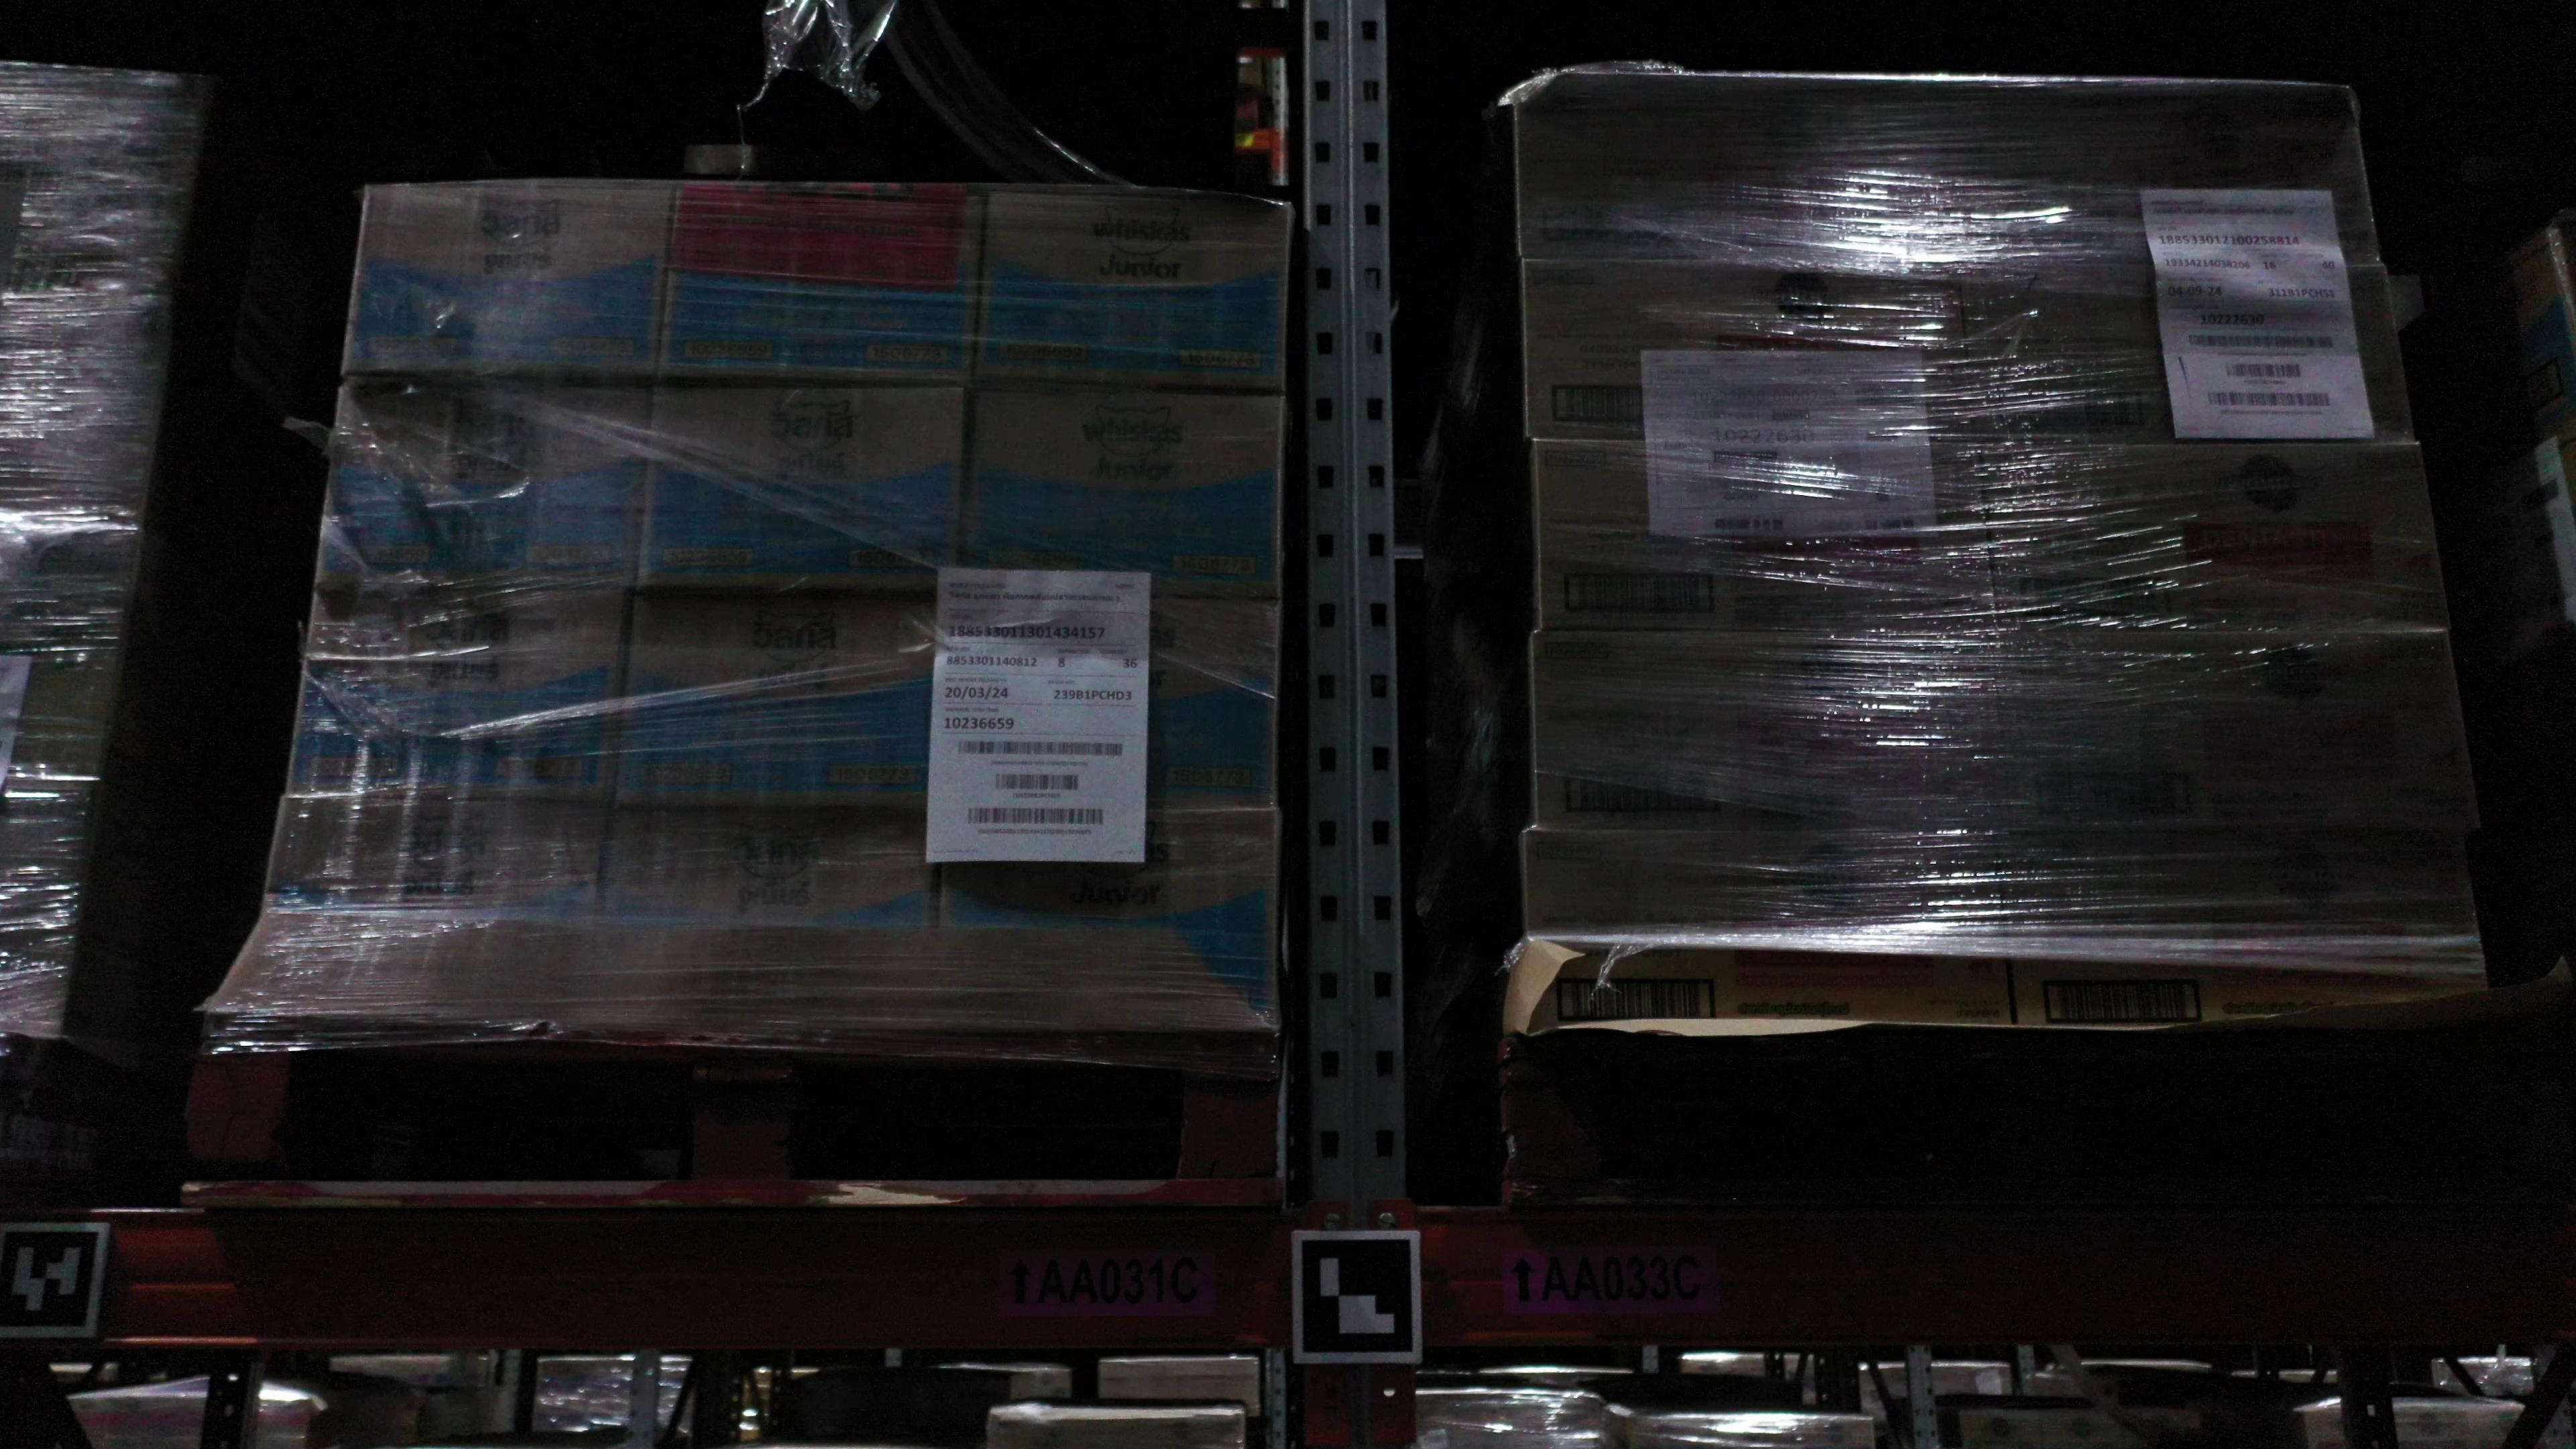-: (1518, 828, 2015, 1033), (1989, 630, 2477, 830), (1997, 828, 2489, 1026), (1527, 630, 2008, 830), (1536, 435, 1997, 630), (1982, 442, 2450, 630), (1959, 260, 2417, 446), (1518, 76, 1960, 264), (1520, 257, 1974, 439), (1937, 81, 2383, 262), (609, 587, 952, 814), (934, 807, 1279, 1028), (941, 593, 1281, 810), (626, 379, 968, 593), (287, 586, 628, 800), (950, 389, 1283, 607), (315, 375, 655, 587), (660, 177, 989, 389), (338, 180, 679, 379), (977, 188, 1290, 396), (2, 65, 219, 308), (593, 800, 934, 932), (260, 794, 609, 922), (0, 297, 177, 531), (0, 520, 145, 789), (0, 786, 101, 1040)
